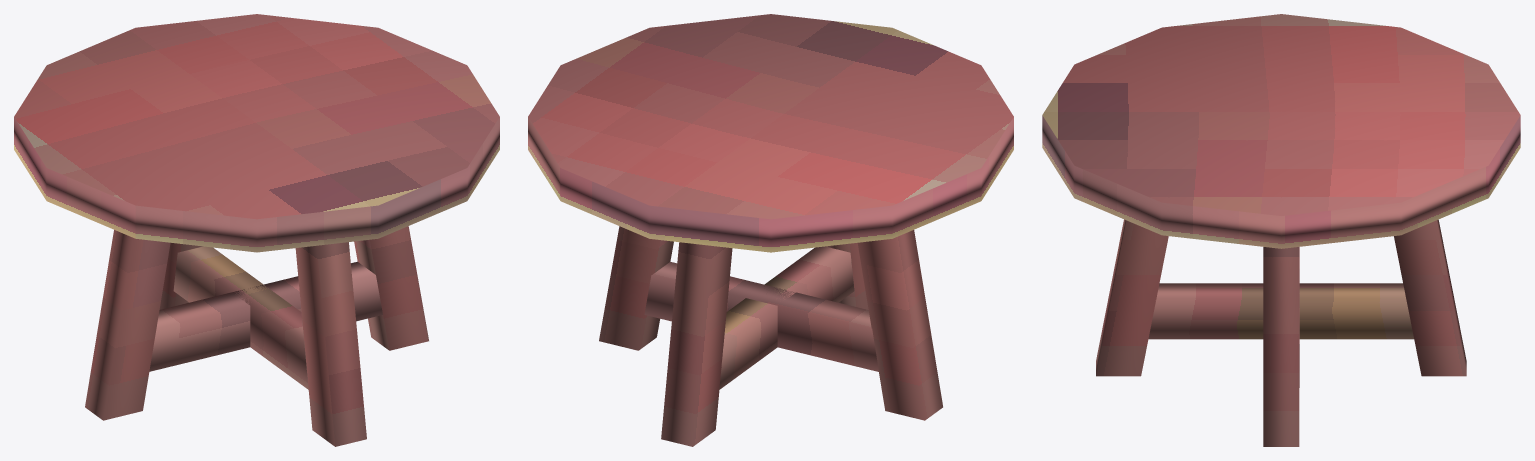
Rendered from objects_un_plan_chair01_red.gltf.
3 renders of one model, left to right at view 1: azimuth 30°, elevation 25°; view 2: azimuth 150°, elevation 25°; view 3: azimuth 270°, elevation 25°, orthographic.
Visible parts, largest first — view 1: objects_un_plan_chair01_red_mesh_shape:objects_un_chair01; view 2: objects_un_plan_chair01_red_mesh_shape:objects_un_chair01; view 3: objects_un_plan_chair01_red_mesh_shape:objects_un_chair01.
Boxes of the visible parts, left/top/right/bottom form: objects_un_plan_chair01_red_mesh_shape:objects_un_chair01: left=14, top=14, right=499, bottom=446; objects_un_plan_chair01_red_mesh_shape:objects_un_chair01: left=528, top=14, right=1013, bottom=446; objects_un_plan_chair01_red_mesh_shape:objects_un_chair01: left=1042, top=14, right=1520, bottom=446.
Size of the model in its own units: 0.53 by 0.31 by 0.53.
Materials: 1 (1 with a texture image).
